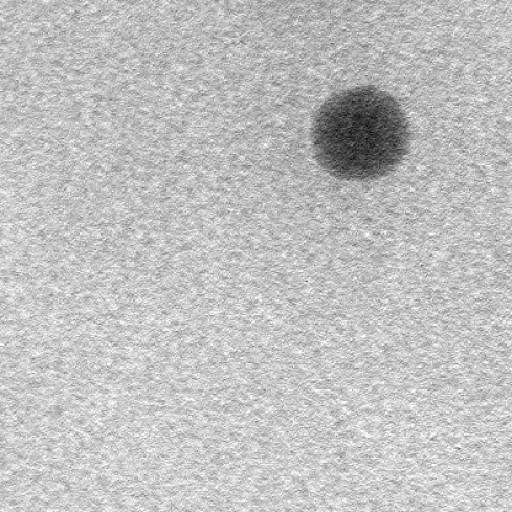Nanoparticles: (309, 81, 411, 185)
